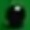black: (0, 0, 30, 30)
